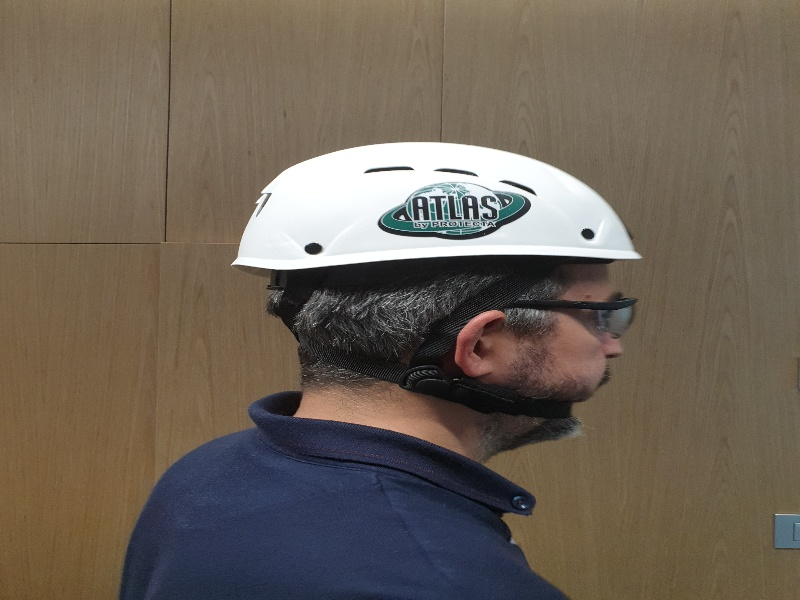Baret: (226, 142, 642, 269)
Gozluk: (446, 297, 637, 331)
